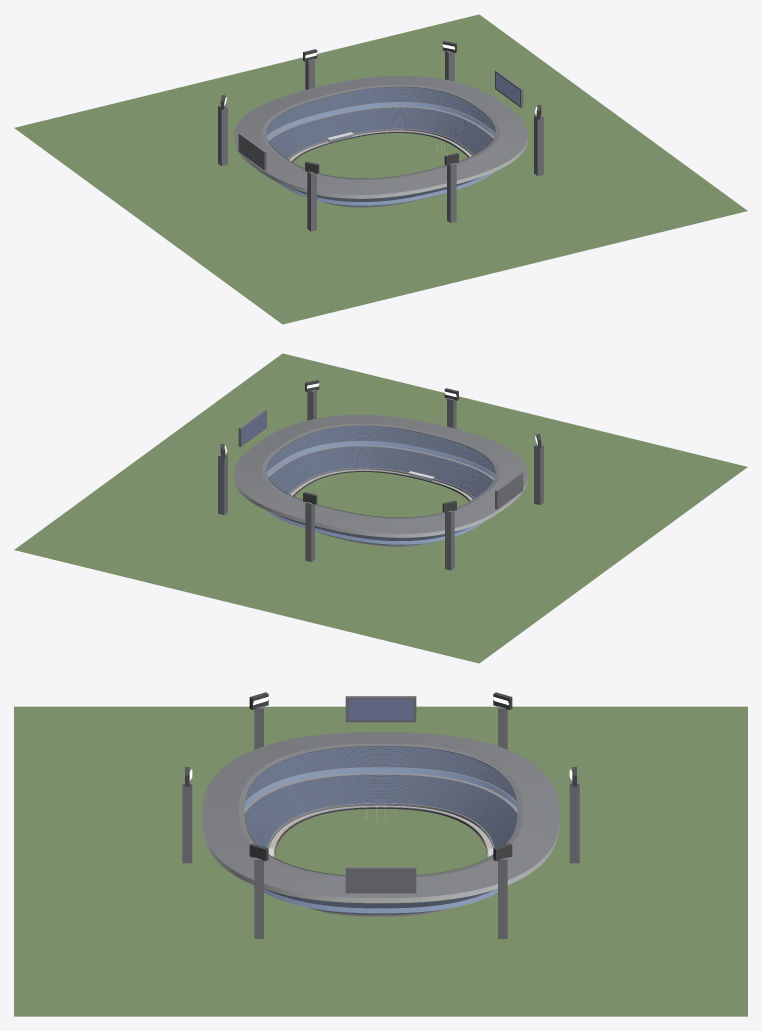
Rendered from stadium.glb.
3 renders of one model, top to bottom at view 1: azimuth 30°, elevation 25°; view 2: azimuth 150°, elevation 25°; view 3: azimuth 270°, elevation 25°, orthographic. The views are drawn at different scales.
Visible parts, largest first — view 1: Park, Roof, TierLower, TierUpper, Fascia, Apron, ScreenFrame-1, Tower2, Tower5, Tower3, Tower4; view 2: Park, Roof, TierLower, TierUpper, Fascia, Apron, ScreenFrame-1, Tower0, Tower3, Tower2, Tower1; view 3: Park, Roof, TierLower, TierUpper, Fascia, ScreenFrame1, Apron, Screen.B, Tower1, Tower4, Tower0, Tower5 (+2 smaller).
Part boxes in pixels (box(x1,y1,x2,y2)): Park: box(14, 14, 747, 324); Roof: box(234, 75, 527, 198); TierLower: box(268, 107, 493, 206); TierUpper: box(266, 87, 495, 201); Fascia: box(266, 102, 495, 205); Apron: box(287, 128, 473, 207); ScreenFrame-1: box(238, 133, 266, 170); Tower2: box(218, 105, 227, 166); Tower5: box(534, 114, 543, 175); Tower3: box(307, 171, 316, 231); Tower4: box(447, 163, 456, 222); Park: box(14, 353, 747, 663); Roof: box(234, 414, 527, 537); TierLower: box(268, 446, 493, 545); TierUpper: box(266, 426, 495, 540); Fascia: box(266, 441, 495, 544); Apron: box(288, 467, 474, 546); ScreenFrame-1: box(495, 472, 523, 509); Tower0: box(218, 453, 227, 514); Tower3: box(534, 444, 543, 505); Tower2: box(445, 510, 454, 570); Tower1: box(305, 502, 314, 561); Park: box(14, 706, 747, 1016); Roof: box(202, 732, 559, 902); TierLower: box(244, 774, 517, 914); TierUpper: box(245, 746, 516, 908); Fascia: box(244, 767, 517, 913); ScreenFrame1: box(345, 867, 416, 893); Apron: box(267, 803, 494, 916); Screen.B: box(348, 699, 413, 720); Tower1: box(569, 779, 579, 863); Tower4: box(182, 779, 192, 863); Tower0: box(498, 857, 507, 938); Tower5: box(254, 857, 263, 938).
Size of the model in its own units: 520 by 70.85 by 520.
